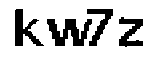7: (89, 5, 115, 52)
k: (10, 5, 45, 49)
w: (44, 17, 90, 48)
z: (118, 15, 145, 49)
